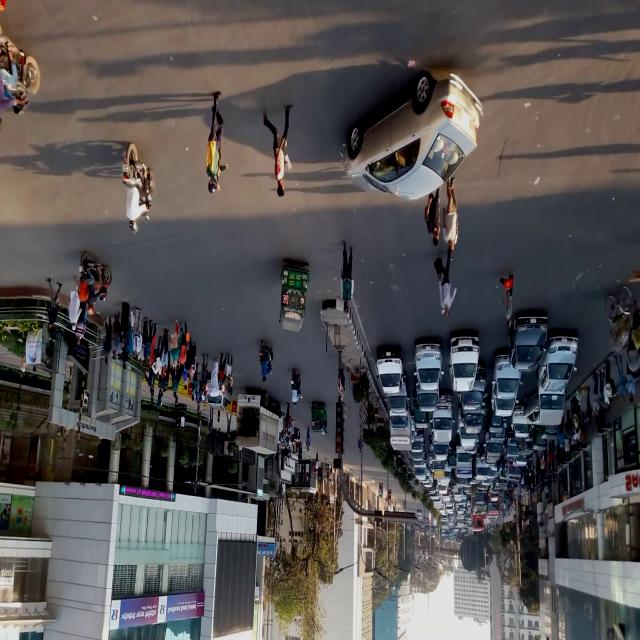black: (508, 314, 548, 368)
silver: (340, 72, 486, 195), (540, 330, 579, 391), (493, 348, 524, 401), (416, 342, 444, 392)
